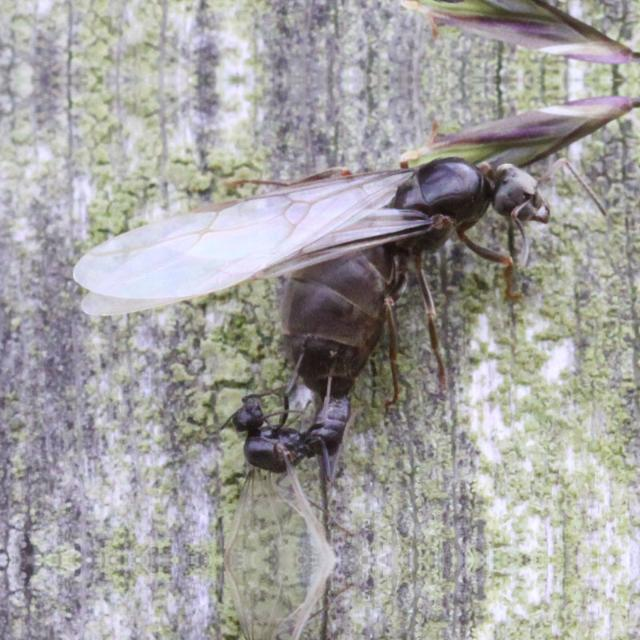Lasius: (70, 124, 588, 392), (215, 360, 363, 560), (215, 560, 363, 640)
